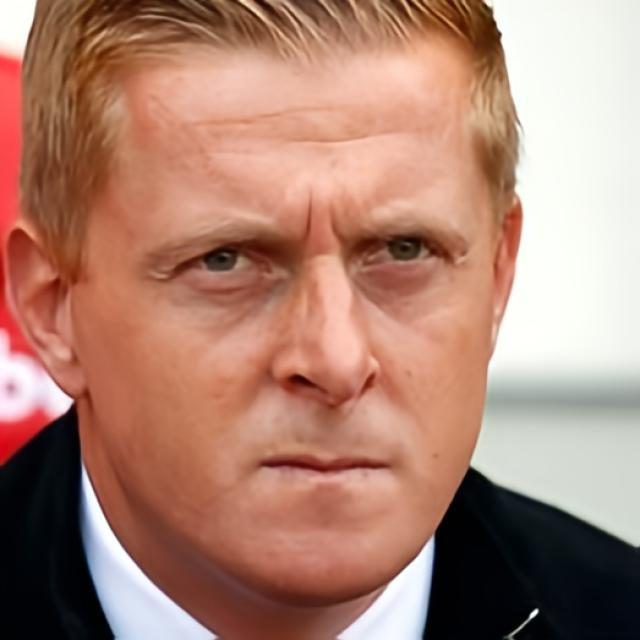anger: (89, 32, 497, 596)
